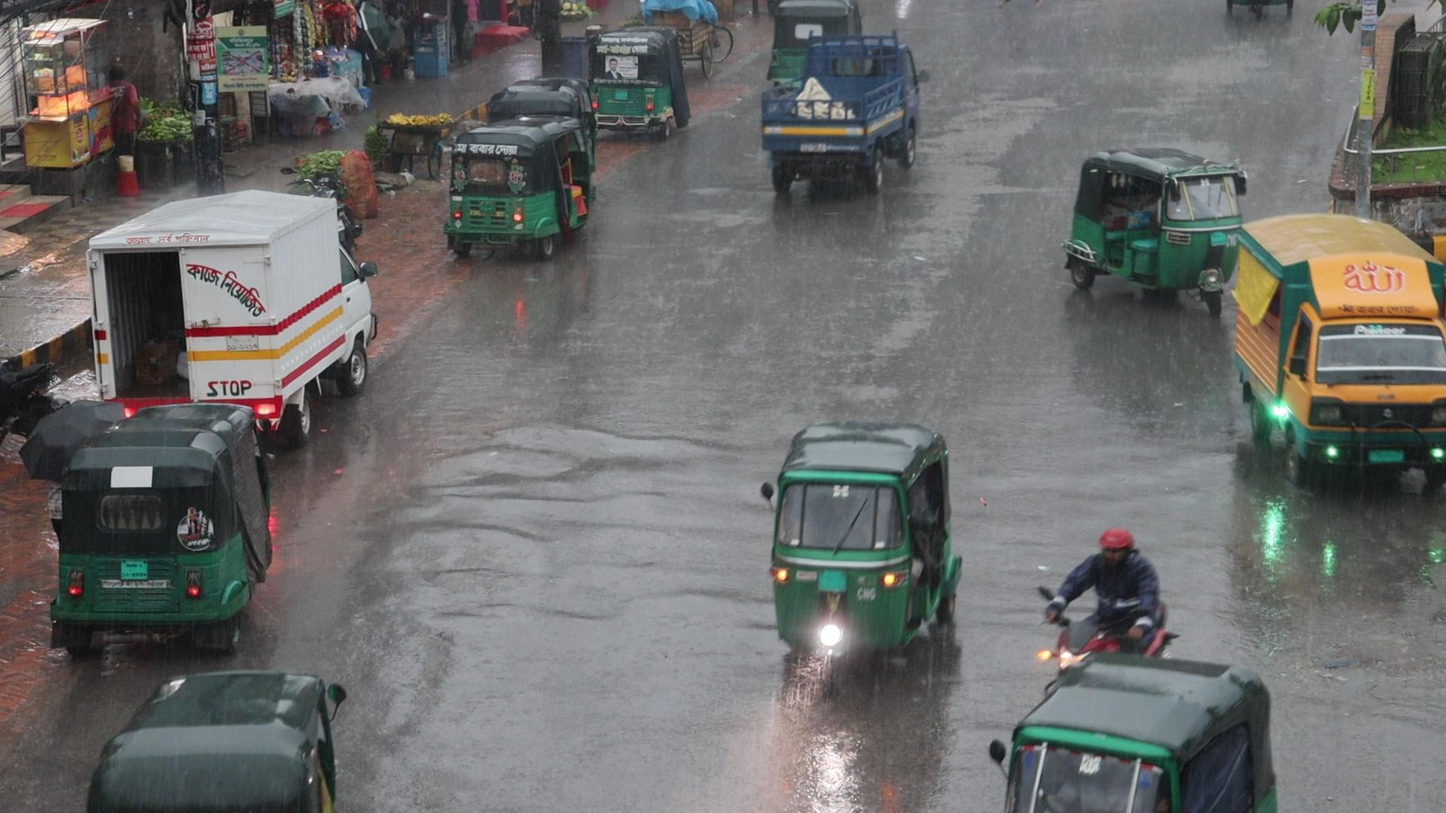Bike: (1032, 525, 1168, 660)
Truck: (1231, 212, 1446, 484), (758, 30, 925, 192)
